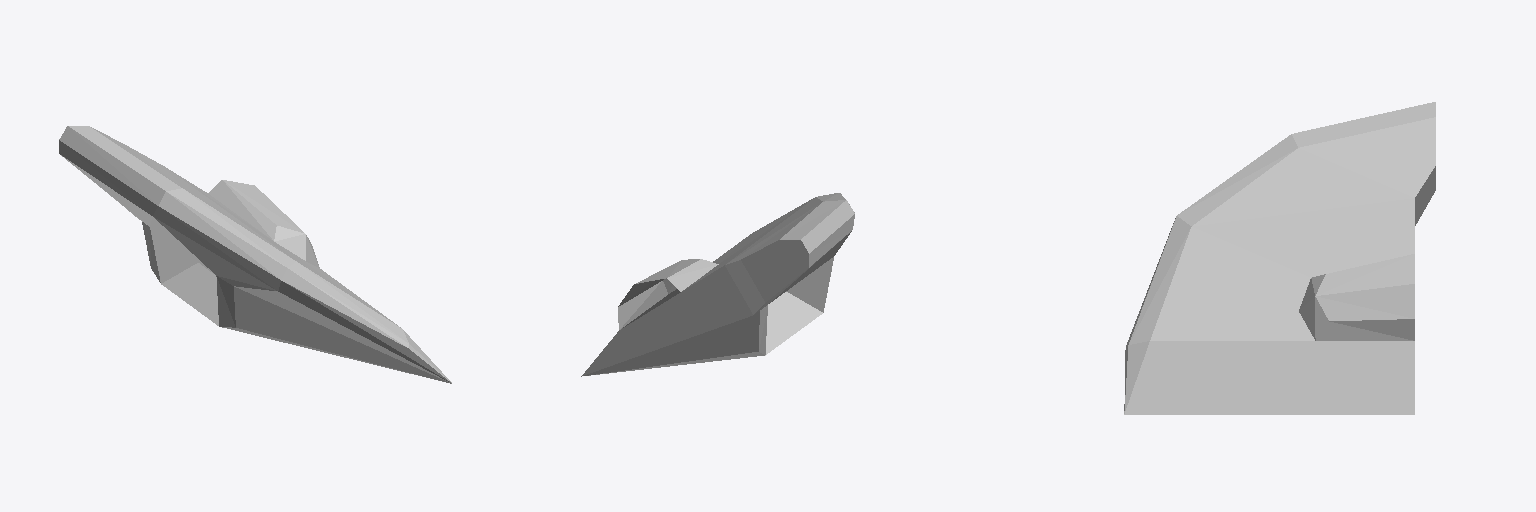
File: fin_br.obj
The picture shows the model from 3 angles: view 1: azimuth 30°, elevation 25°; view 2: azimuth 150°, elevation 25°; view 3: azimuth 270°, elevation 25°; orthographic projection.
Parts seen in each view (by area): view 1: ungrouped; view 2: ungrouped; view 3: ungrouped.
Boxes of the visible parts, x1=… form: ungrouped: x1=59, y1=126, x2=451, y2=383; ungrouped: x1=581, y1=193, x2=854, y2=376; ungrouped: x1=1124, y1=102, x2=1435, y2=414.
Bounding box in the file's own units: 1.42 × 1.14 × 1.61.